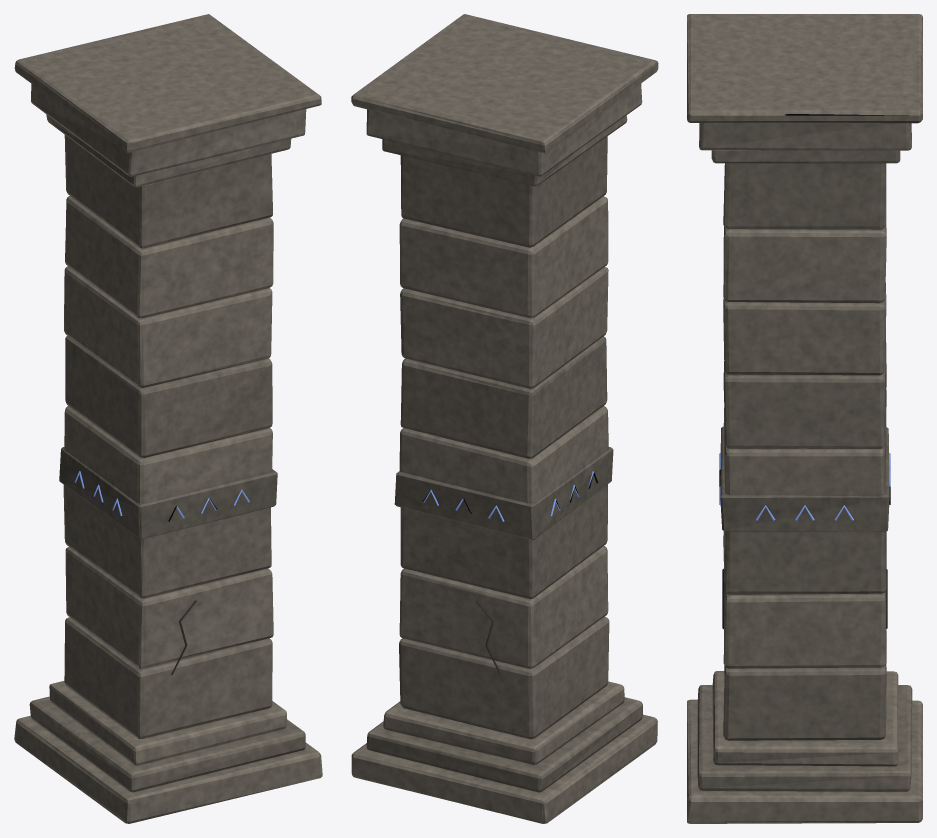
Rendered from arena-pillar.glb.
3 views of the same model, side by side, from view 1: azimuth 30°, elevation 25°; view 2: azimuth 150°, elevation 25°; view 3: azimuth 270°, elevation 25° (orthographic). The views are drawn at different scales.
Visible parts, largest first — view 1: arena-pillar; view 2: arena-pillar; view 3: arena-pillar.
Part boxes in pixels (bbox=[...]): arena-pillar: bbox=[14, 14, 322, 823]; arena-pillar: bbox=[351, 14, 658, 823]; arena-pillar: bbox=[687, 14, 922, 823].
Size of the model in its own units: 1.2 by 4 by 1.2.
1 material, 1 textured.
